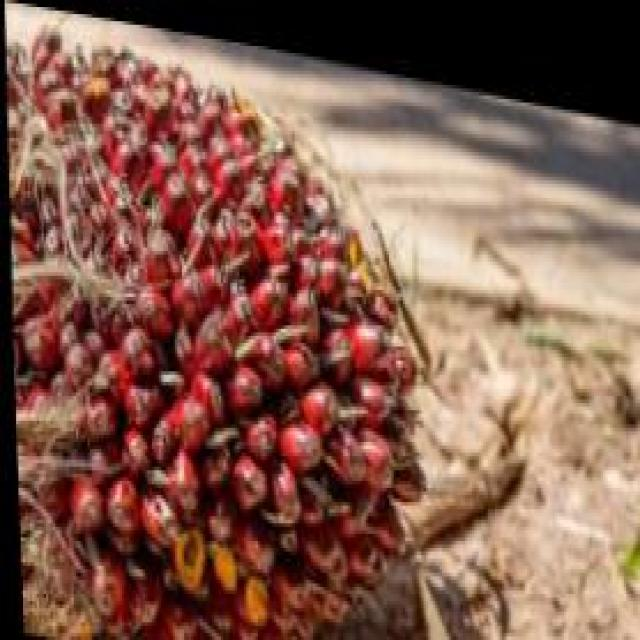Ripefruit: (3, 17, 440, 640)
